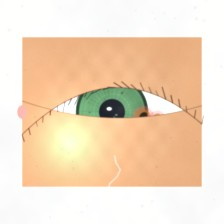foreign_body_visible: (119, 97, 168, 136)
